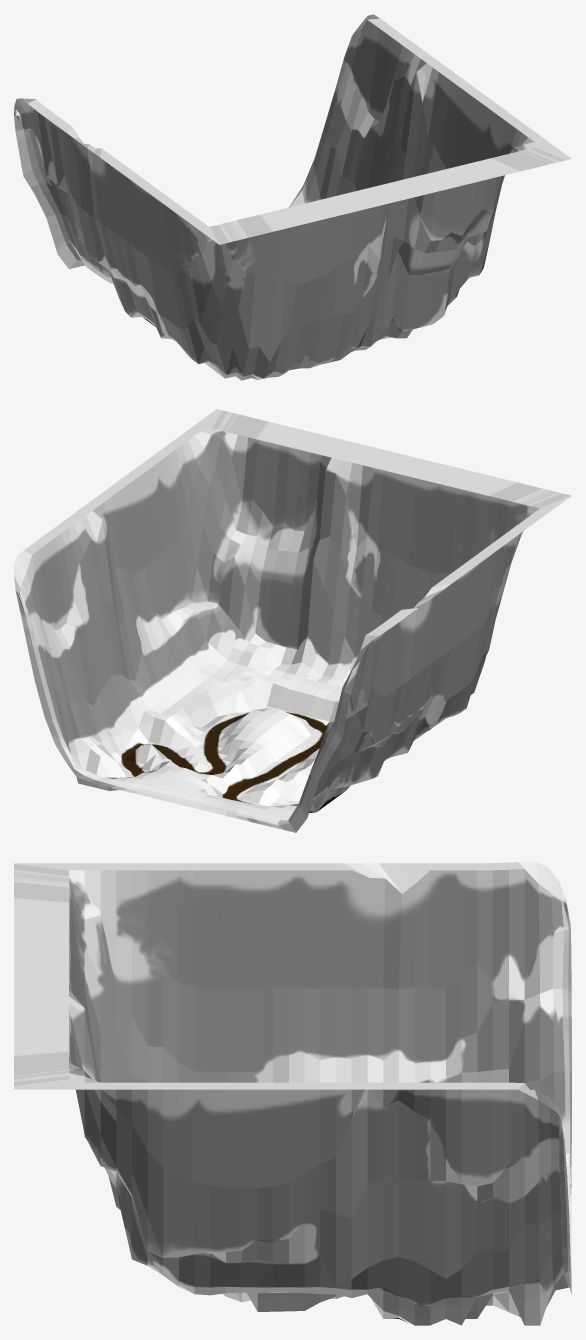
Rendered from ice_map.glb.
The picture shows the model from 3 angles, top to bottom: view 1: azimuth 30°, elevation 25°; view 2: azimuth 150°, elevation 25°; view 3: azimuth 270°, elevation 25°; orthographic projection. The views are drawn at different scales.
Parts seen in each view (by area): view 1: Plane_Plane.003; view 2: Plane_Plane.003; view 3: Plane_Plane.003.
Part boxes in pixels (bbox=[...]): Plane_Plane.003: bbox=[14, 14, 571, 380]; Plane_Plane.003: bbox=[14, 409, 571, 832]; Plane_Plane.003: bbox=[14, 861, 571, 1325].
Size of the model in its own units: 213 by 125 by 222.
1 material, 1 textured.
